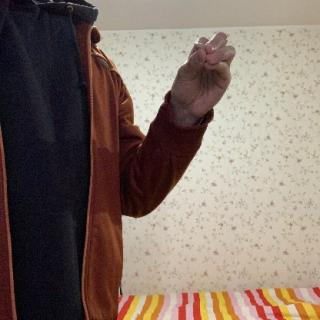HA: (162, 30, 242, 118)
